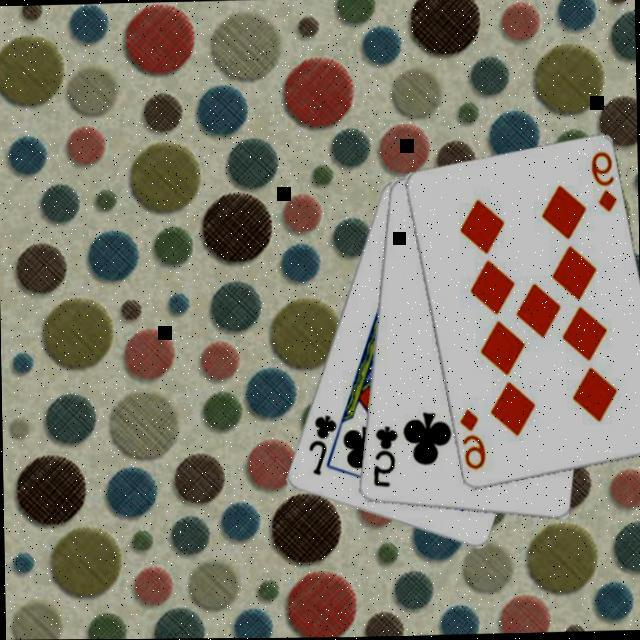5C: (370, 423, 402, 490)
9D: (588, 148, 620, 215), (458, 406, 490, 472)
JC: (306, 411, 341, 478)
